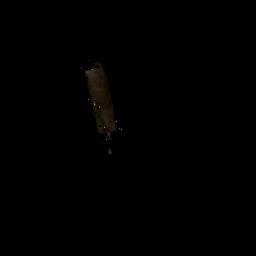boat: (77, 49, 128, 158)
